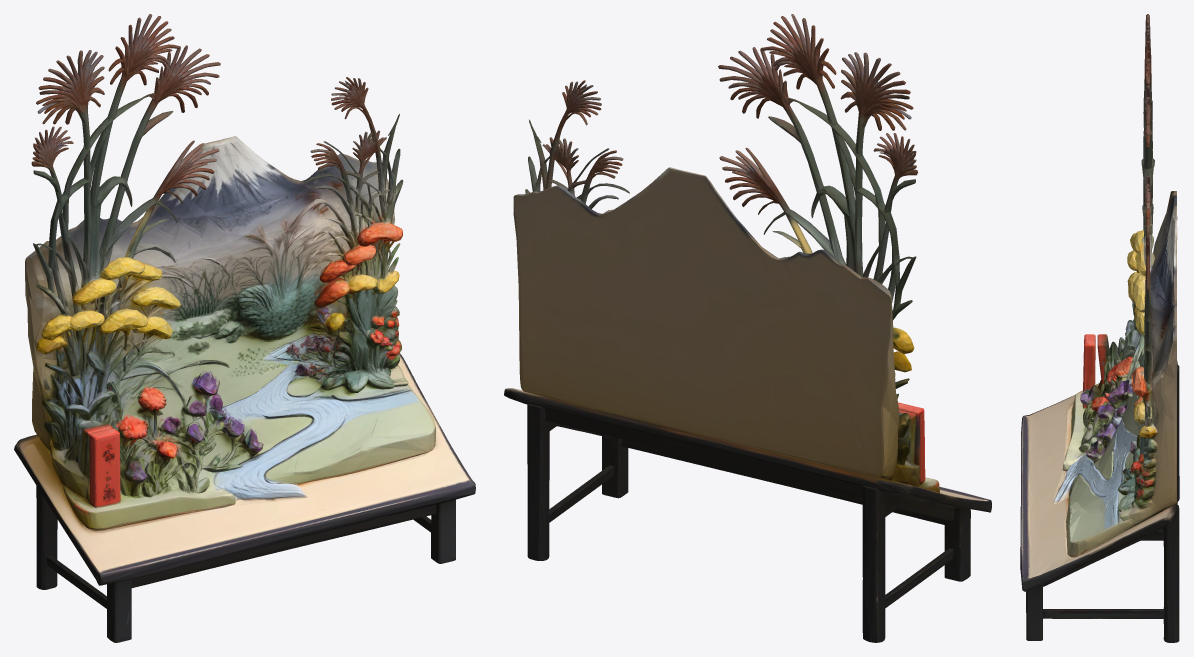
The picture shows the model from 3 angles, left to right: view 1: azimuth 30°, elevation 25°; view 2: azimuth 150°, elevation 25°; view 3: azimuth 270°, elevation 25°; orthographic projection. The views are drawn at different scales.
Visible parts, largest first — view 1: Geometry; view 2: Geometry; view 3: Geometry.
Part boxes in pixels (<box>): Geometry: <box>14,14,475,642</box>; Geometry: <box>504,14,991,642</box>; Geometry: <box>1020,14,1179,642</box>.
Size of the model in its own units: 0.7136 by 0.9926 by 0.2832.
Materials: 1 (1 with a texture image).
